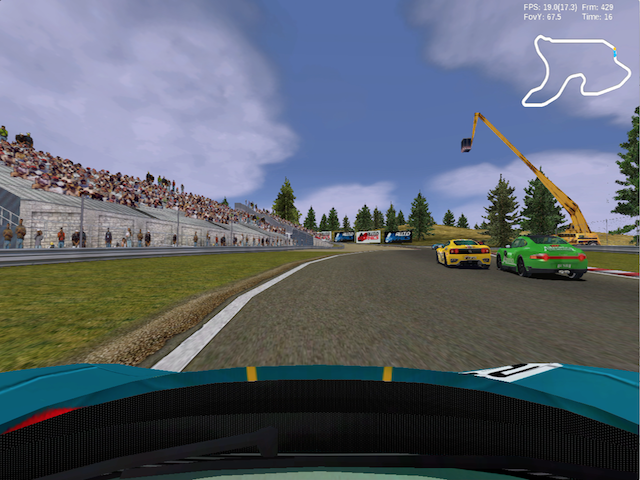Boxer96: (495, 235, 588, 281)
Cavallo360: (435, 238, 492, 270)
